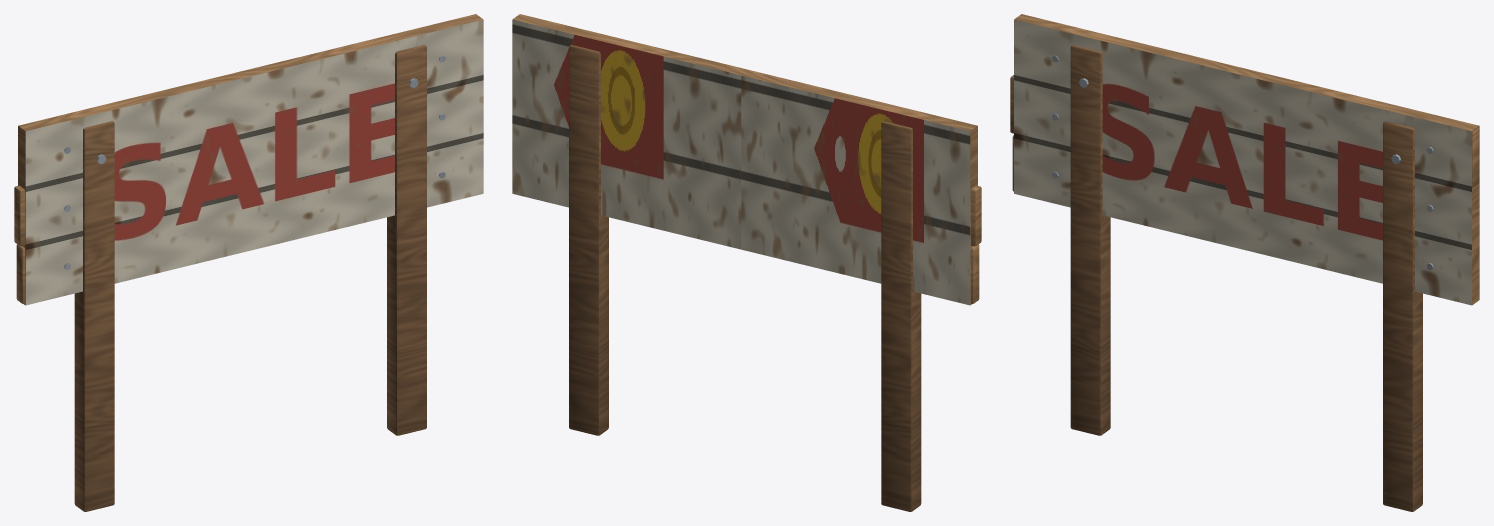
File: sale_sign.glb
3 renders of one model, left to right at view 1: azimuth 30°, elevation 25°; view 2: azimuth 150°, elevation 25°; view 3: azimuth 330°, elevation 25°, orthographic.
Visible parts, largest first — view 1: SaleSignMesh; view 2: SaleSignMesh; view 3: SaleSignMesh.
Part boxes in pixels (left/top/right/bottom): SaleSignMesh: left=14, top=14, right=483, bottom=511; SaleSignMesh: left=512, top=14, right=981, bottom=511; SaleSignMesh: left=1010, top=14, right=1479, bottom=511.
Bounding box in the file's own units: 0.8906 × 0.725 × 0.043.
Materials: 5 (5 with a texture image).
